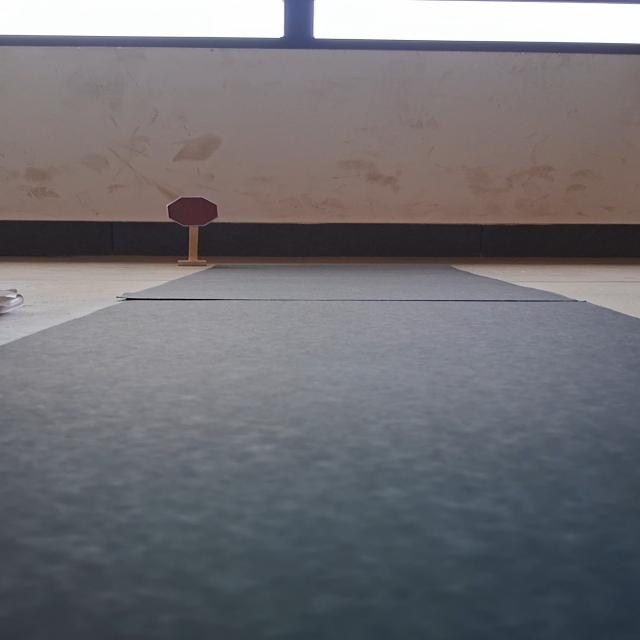Stop: (166, 196, 218, 227)
